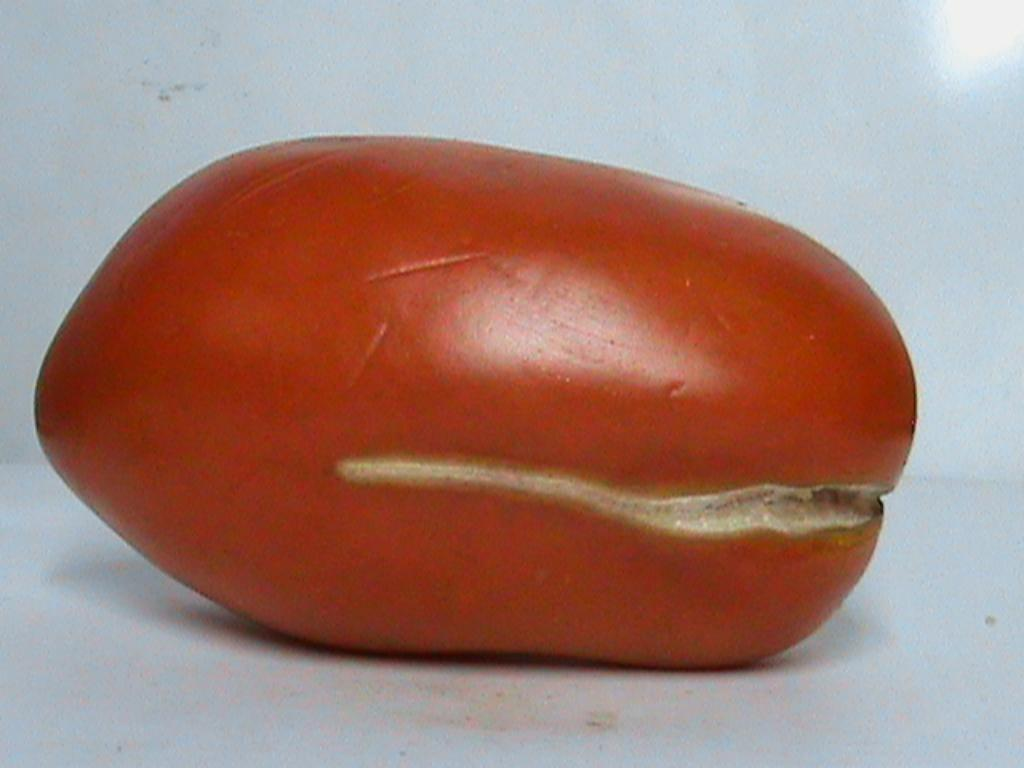surface_damage: (336, 461, 880, 538)
tomato: (37, 136, 914, 666)
